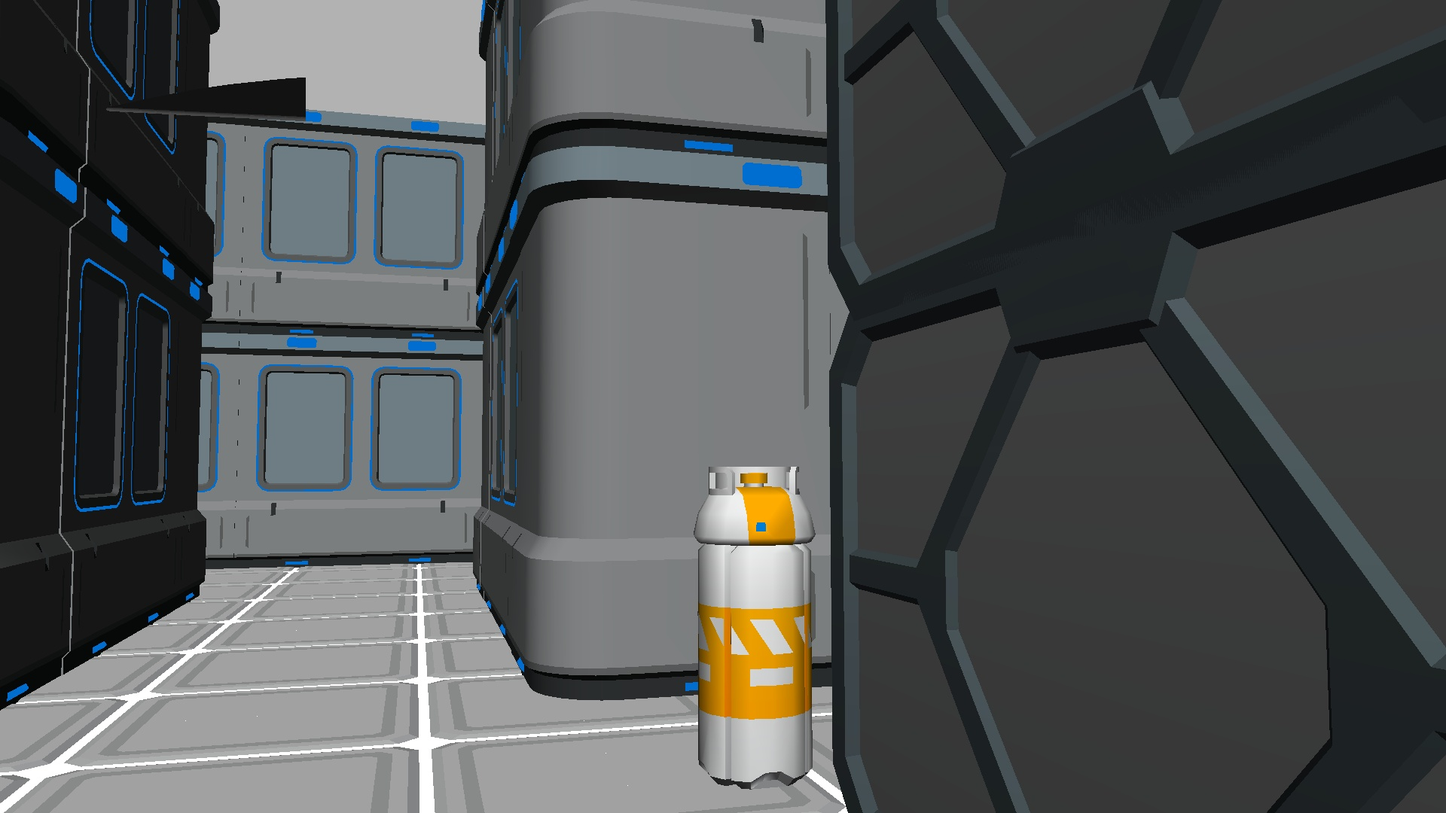yellow barrel: (693, 467, 816, 789)
